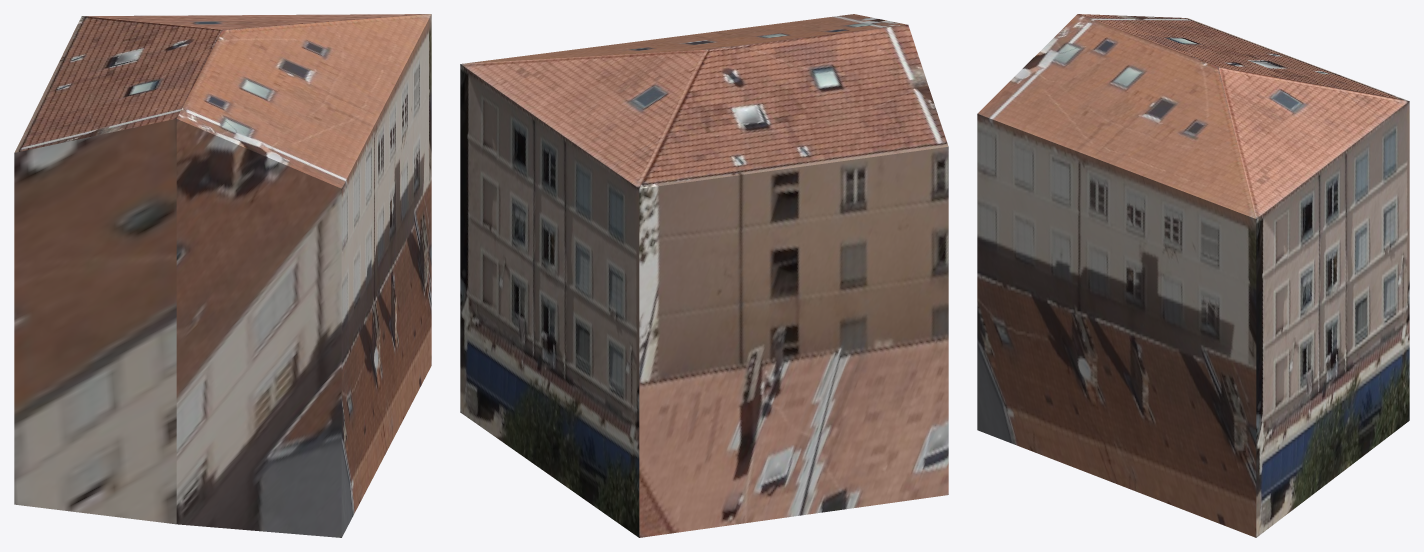
3 renders of one model, left to right at view 1: azimuth 30°, elevation 25°; view 2: azimuth 150°, elevation 25°; view 3: azimuth 270°, elevation 25°, orthographic. The views are drawn at different scales.
Visible parts, largest first — view 1: Z_UP; view 2: Z_UP; view 3: Z_UP.
Part boxes in pixels (x1,y1,x2,y2): Z_UP: (14,14,431,537); Z_UP: (460,14,948,537); Z_UP: (977,14,1409,537).
Bounding box in the file's own units: 24.56 × 21 × 22.3.
Materials: 2 (1 with a texture image).
